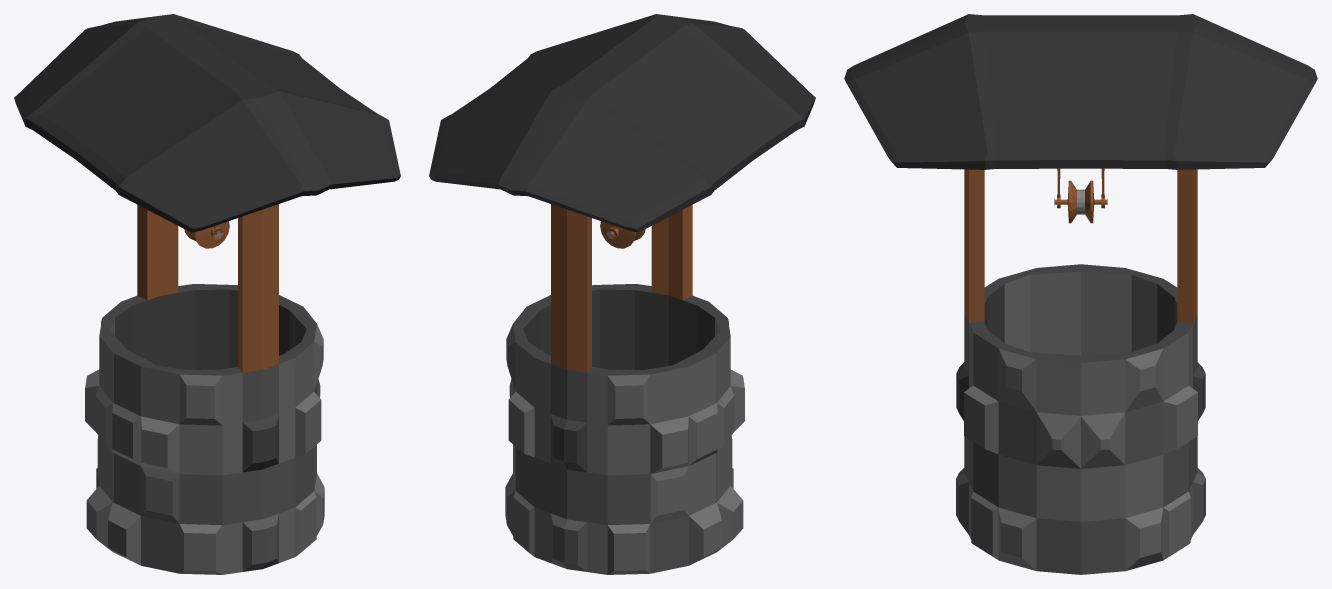
File: well.fbx
The picture shows the model from 3 angles, left to right: view 1: azimuth 30°, elevation 25°; view 2: azimuth 150°, elevation 25°; view 3: azimuth 270°, elevation 25°; orthographic projection. The views are drawn at different scales.
Visible parts, largest first — view 1: Cylinder; view 2: Cylinder; view 3: Cylinder.
Boxes of the visible parts, x1,y1,x2,y2 form: Cylinder: (14, 14, 400, 574); Cylinder: (429, 14, 815, 574); Cylinder: (844, 14, 1317, 574).
Size of the model in its own units: 286 by 474 by 405.
